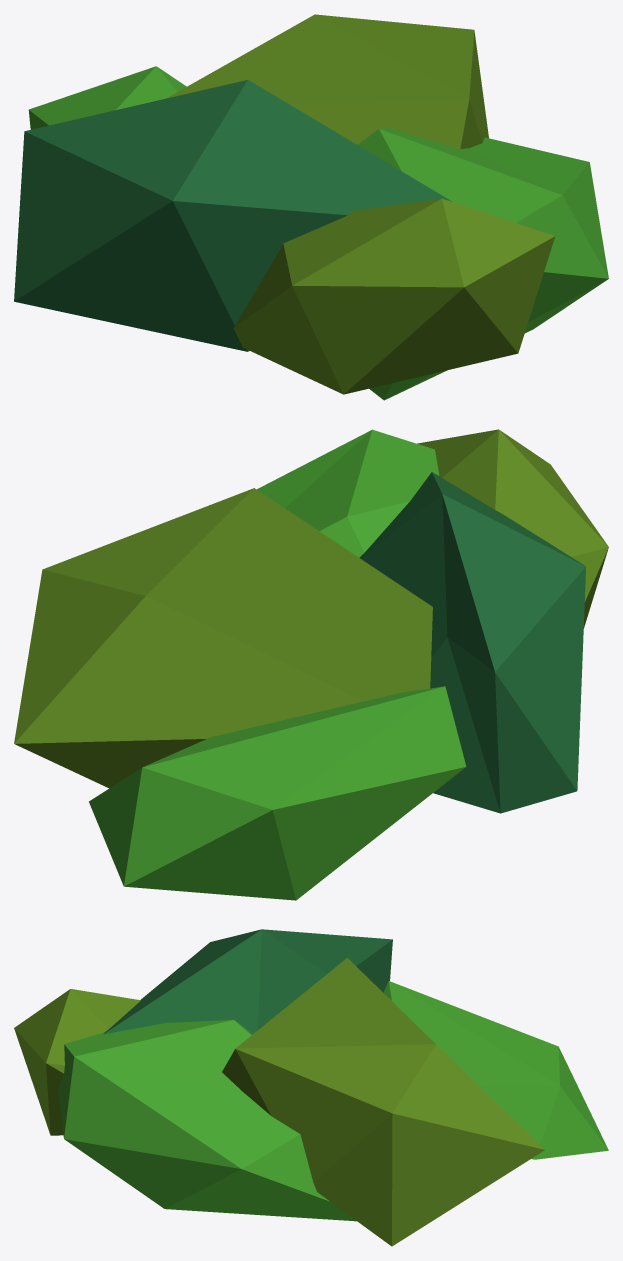
The model's file is bush1.fbx.
3 renders of one model, top to bottom at view 1: azimuth 30°, elevation 25°; view 2: azimuth 150°, elevation 25°; view 3: azimuth 270°, elevation 25°, orthographic. The views are drawn at different scales.
Visible parts, largest first — view 1: Bush1; view 2: Bush1; view 3: Bush1.
Part boxes in pixels (x1,y1,x2,y2): Bush1: (14, 14, 608, 400); Bush1: (14, 429, 608, 900); Bush1: (14, 929, 608, 1246).
Bounding box in the file's own units: 328 × 166 × 430.
